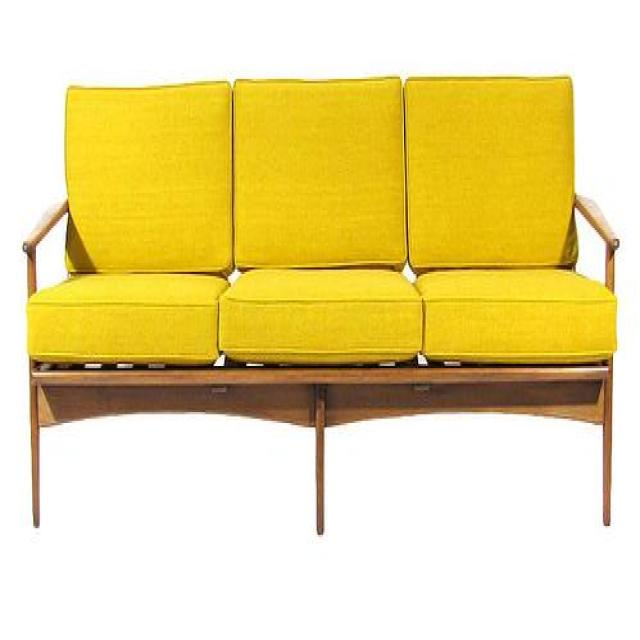sofa: (21, 81, 618, 535)
